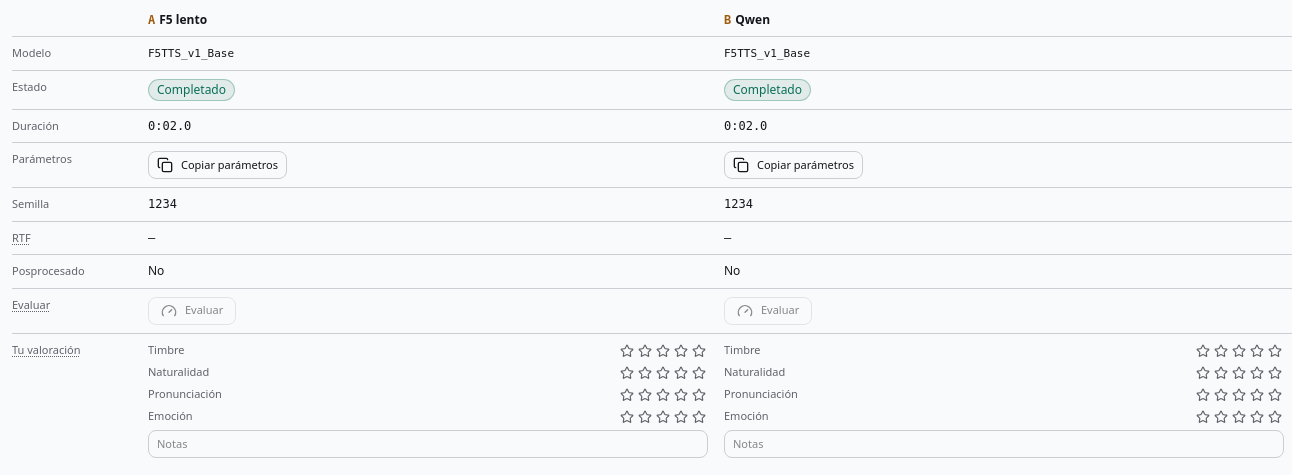
copying parameters › copies from the comparison table (Experiments) into the app and the system clipboard
Click the button with aria-label "Copiar parámetros: F5 lento" at [217, 165], box [148,151,287,179]
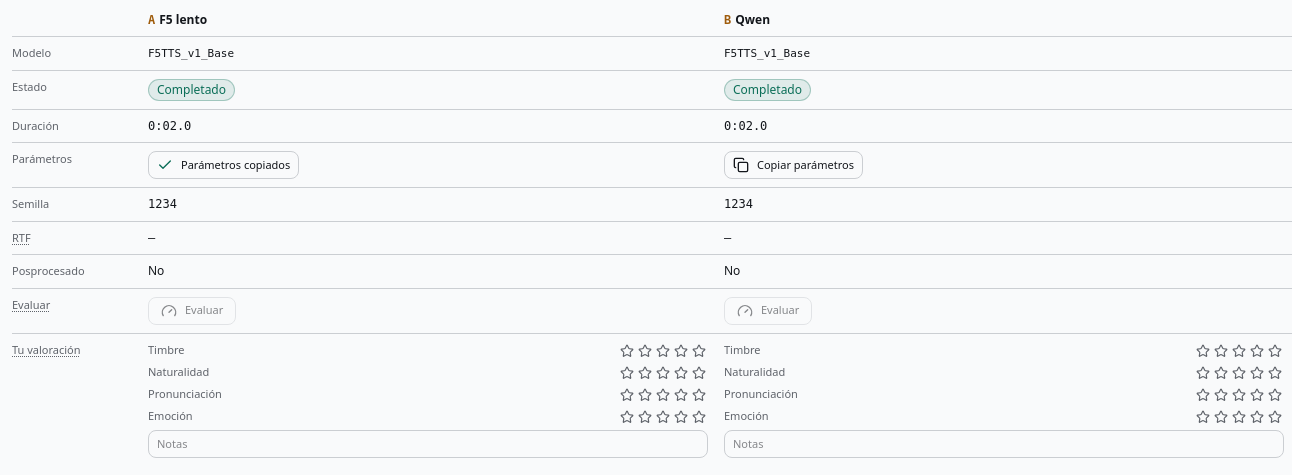
Now the button "Parámetros copiados" is shown, box [148,151,299,179]
